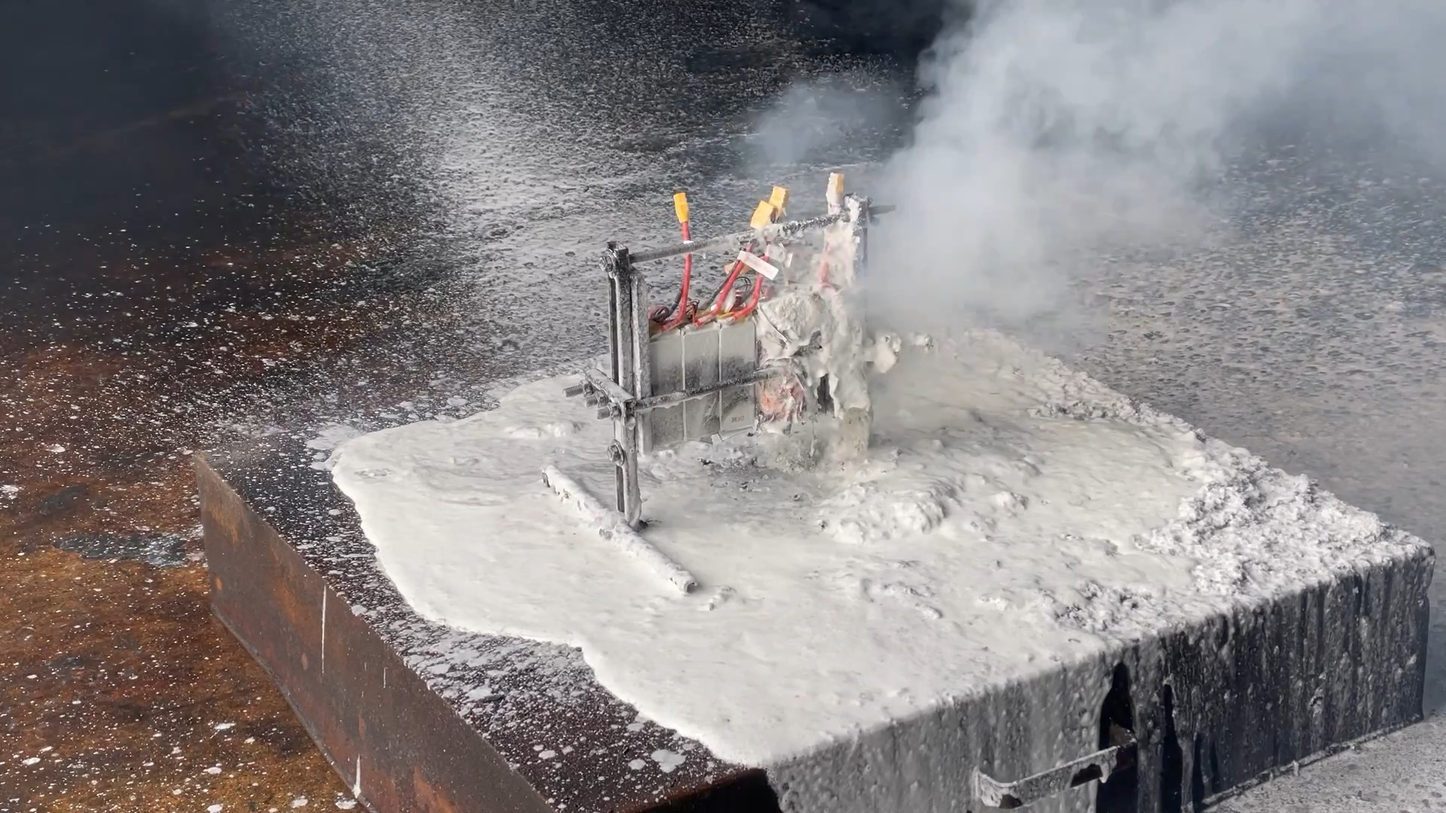smoke: (737, 0, 1445, 353)
